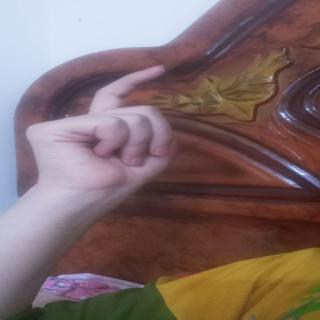RAA: (20, 60, 213, 202)
